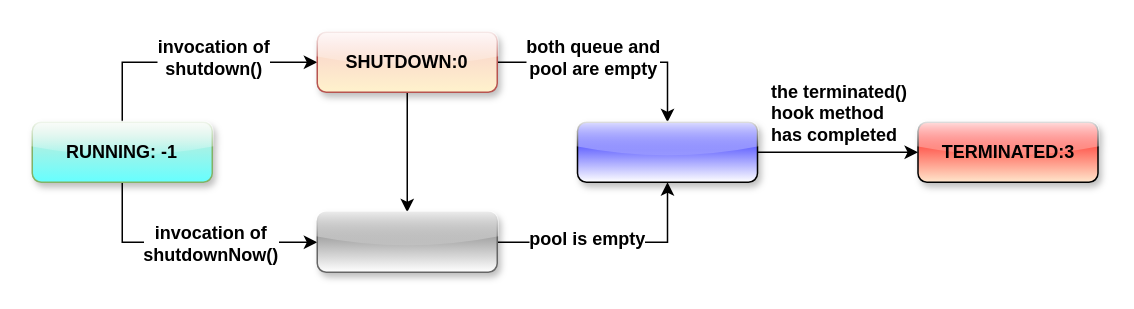
This 1134x309 diagram has some shape labels left out. Each missing label, with the centre of its shape:
"STOP:1" belongs at (x=408, y=244).
"TIDYING:2" belongs at (x=668, y=154).
